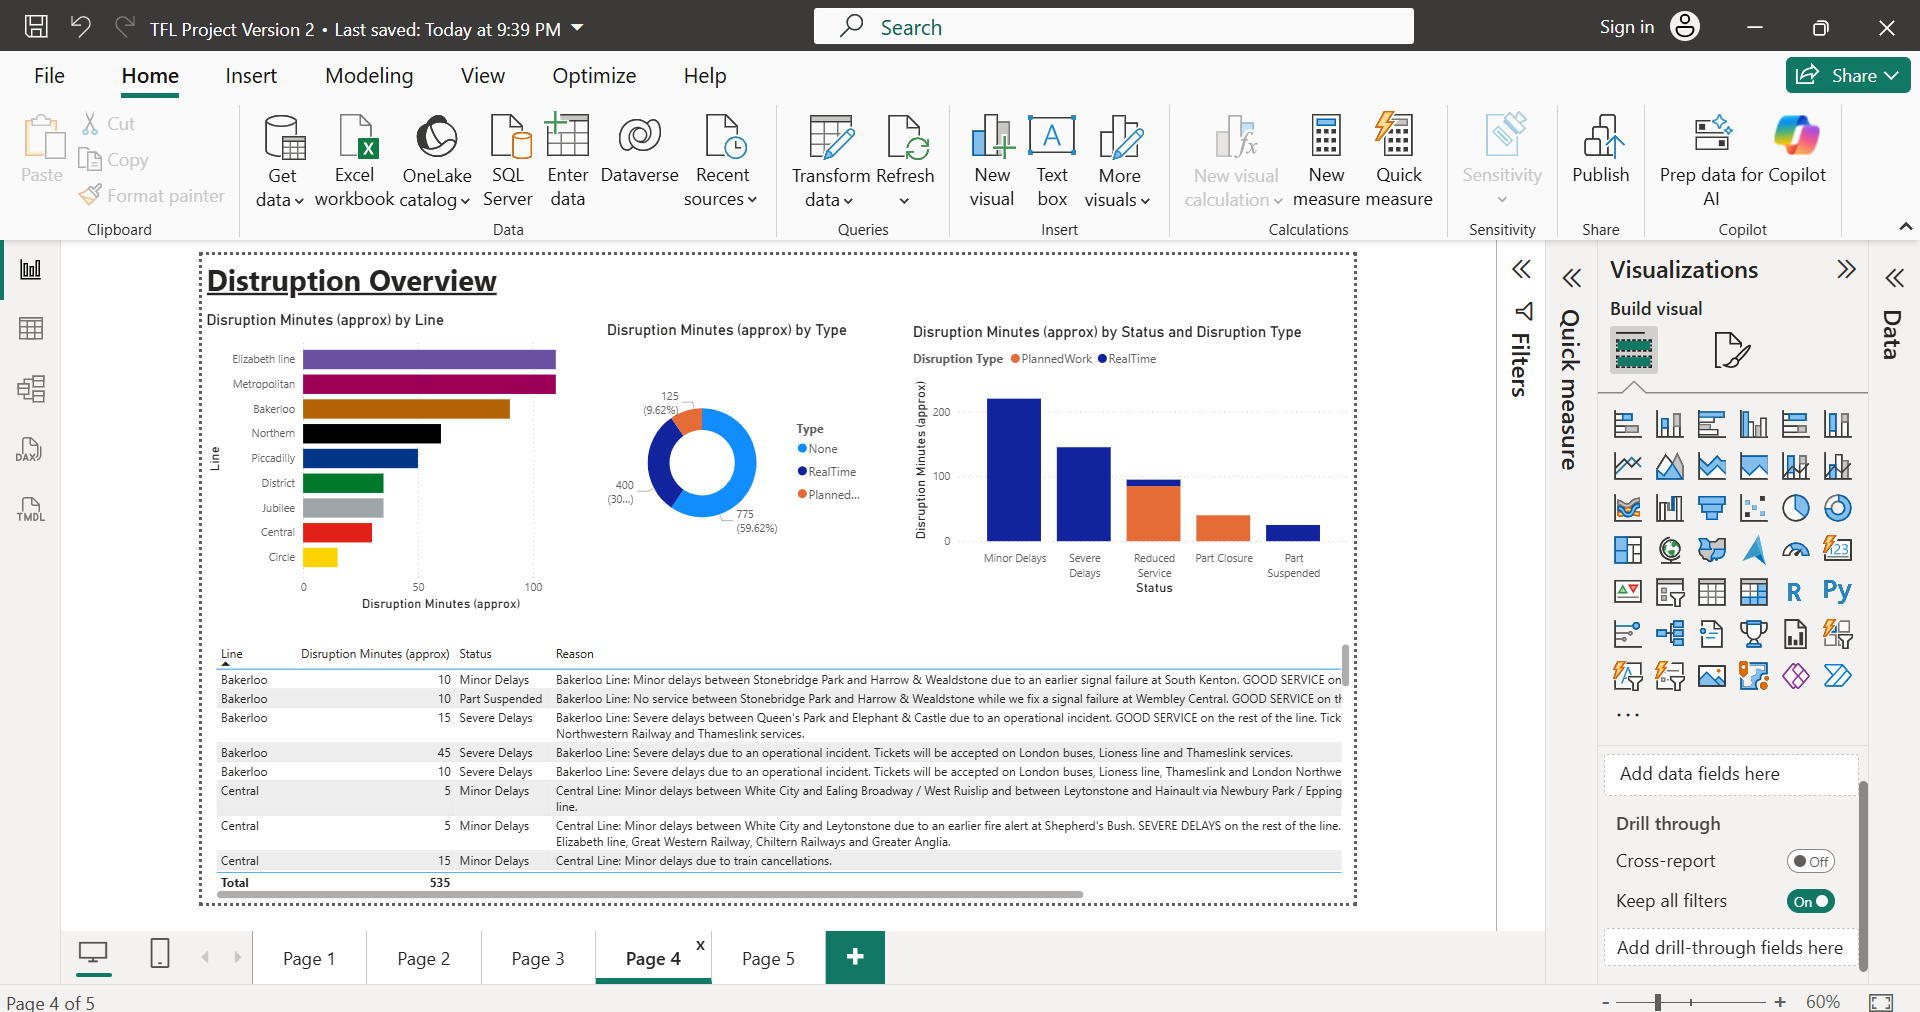

Layout of this report page (visuals, bound fields, positions):
{"tool":"powerbi","page":{"name":"Page 4","canvas":[1280,720],"ordinal":3},"visuals":[{"type":"barChart","fields":{"Y":["line_status.Disruption Minutes (approx)"],"Category":["line_status.line_name"]},"box":[0,61.7,433.3,338.3],"z":0},{"type":"donutChart","fields":{"Y":["line_status.Disruption Minutes (approx)"],"Category":["line_status.disruption_category"]},"box":[445,73.3,311.7,295],"z":1000},{"type":"columnChart","fields":{"Category":["line_status.status_desc"],"Y":["line_status.Disruption Minutes (approx)"],"Series":["line_status.disruption_category"]},"box":[785,75,495,306.7],"z":2000},{"type":"tableEx","fields":{"Values":["line_status.line_name","line_status.Disruption Minutes (approx)","line_status.status_desc","line_status.reason"]},"box":[10,426.7,1270,293.3],"z":3000},{"type":"textbox","box":[0,0,356.7,61.7],"z":4000}]}

Visuals, with their boxes on the page's 1280x720 design canvas (x1, y1, x2, y2). These are canvas units, not pixel positions in the 1920x1012 screenshot, which may show the page scaled, cropped or inside an application window:
barChart - line_status.Disruption Minutes (approx) x line_status.line_name: [x1=0, y1=62, x2=433, y2=400]
donutChart - line_status.Disruption Minutes (approx) x line_status.disruption_category: [x1=445, y1=73, x2=757, y2=368]
columnChart - line_status.status_desc x line_status.Disruption Minutes (approx): [x1=785, y1=75, x2=1280, y2=382]
tableEx - line_status.line_name x line_status.Disruption Minutes (approx): [x1=10, y1=427, x2=1280, y2=720]
textbox: [x1=0, y1=0, x2=357, y2=62]
